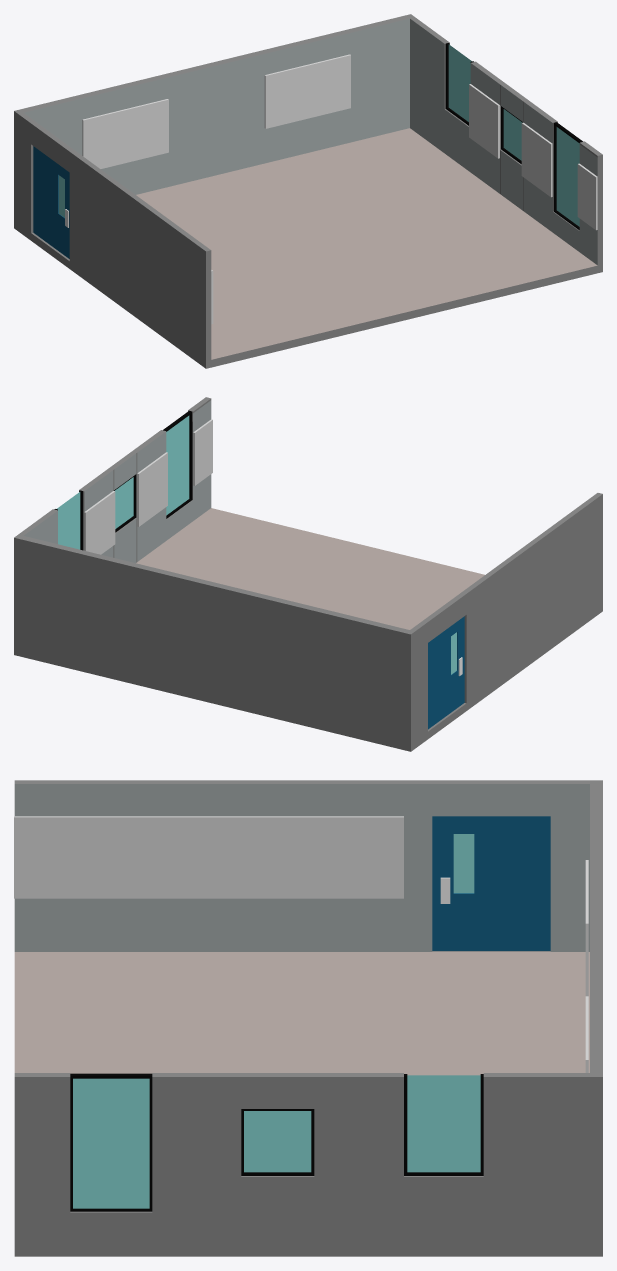
The model's file is Creative_Classroom_New.glb.
3 views of the same model, one above another, from view 1: azimuth 30°, elevation 25°; view 2: azimuth 150°, elevation 25°; view 3: azimuth 270°, elevation 25° (orthographic). The views are drawn at different scales.
Parts seen in each view (by area): view 1: Base, Board.C-Right, Board.C-Left, Glass.R, Board.Right.002, Board.Right.001, Board.Right.003; view 2: Base, Glass.R, Board.Right.002, Board.Right.001, Board.Right.003; view 3: Base, Board.Left.001, Glass.R, Glass.L.
Boxes of the visible parts, x1=… form: Base: x1=14, y1=14, x2=602, y2=368; Board.C-Right: x1=264, y1=54, x2=350, y2=128; Board.C-Left: x1=82, y1=99, x2=168, y2=168; Glass.R: x1=448, y1=44, x2=579, y2=226; Board.Right.002: x1=521, y1=122, x2=552, y2=197; Board.Right.001: x1=469, y1=84, x2=499, y2=158; Board.Right.003: x1=577, y1=163, x2=597, y2=230; Base: x1=14, y1=397, x2=602, y2=751; Glass.R: x1=57, y1=415, x2=189, y2=549; Board.Right.002: x1=137, y1=452, x2=167, y2=526; Board.Right.001: x1=84, y1=491, x2=115, y2=554; Board.Right.003: x1=193, y1=419, x2=212, y2=485; Base: x1=14, y1=780, x2=602, y2=1256; Board.Left.001: x1=14, y1=816, x2=403, y2=898; Glass.R: x1=73, y1=1075, x2=480, y2=1208; Glass.L: x1=453, y1=834, x2=474, y2=893.
Bounding box in the file's own units: 38.35 × 10.84 × 32.18.
